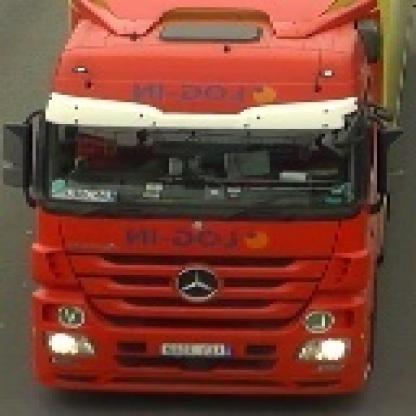truck: (1, 1, 394, 395)
